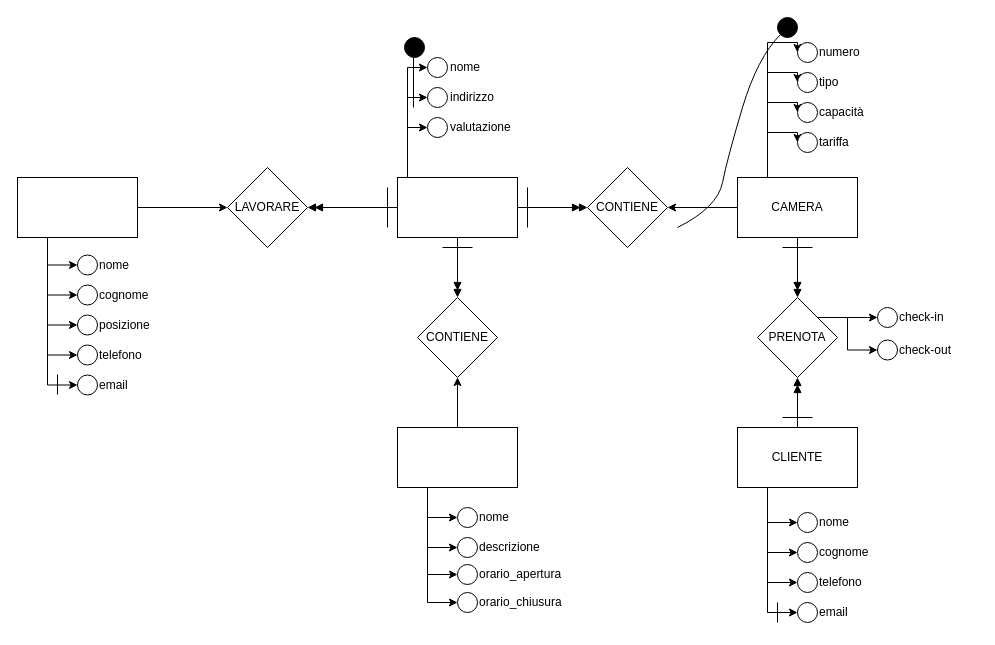
This 995x645 diagram has some shape labels left out. The shapes that lost their labels are listed below. From the top down, each one's centre as x and y in pixels, then its label:
At pixel 77 207: "DIPENTENTI".
At pixel 457 207: "ALBERGO".
At pixel 457 457: "FACILITIES".
